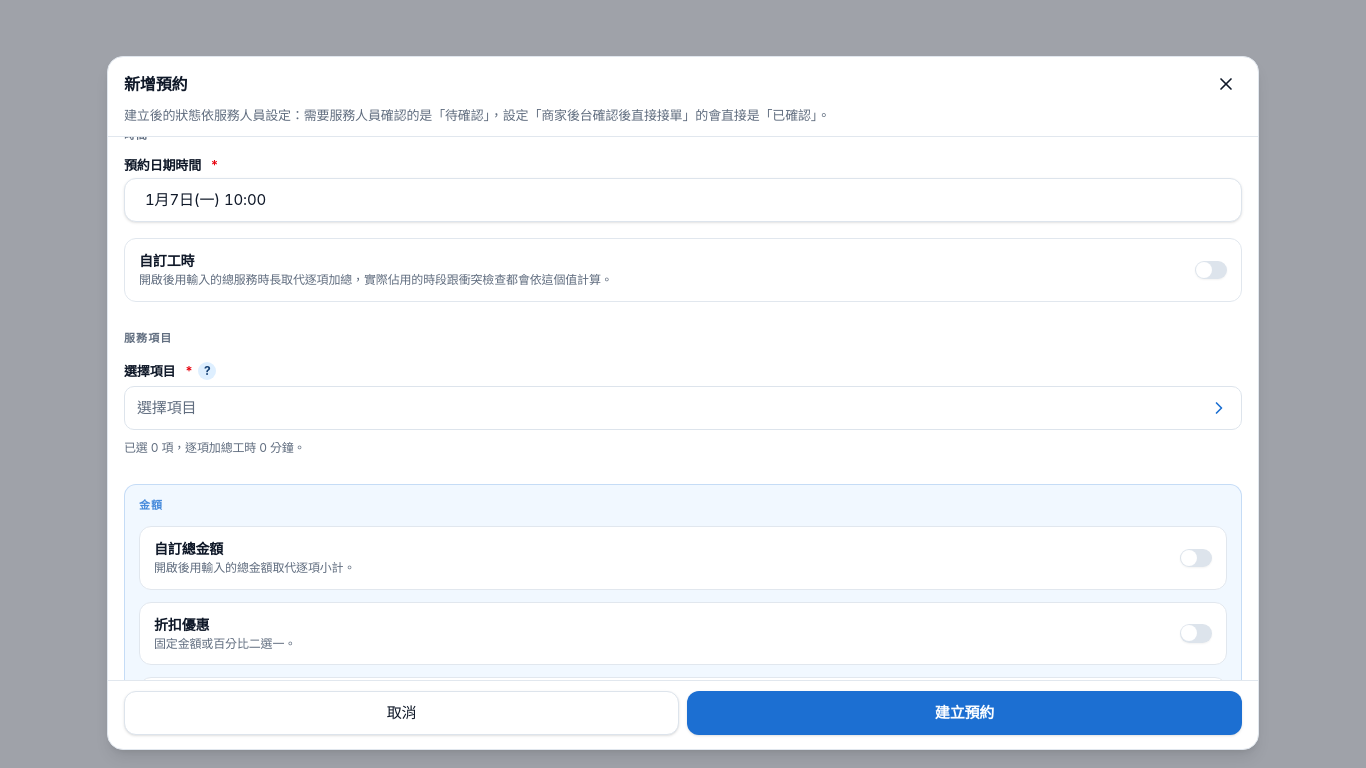
Test: 建單表單 × 選擇項目整頁(#979) › 自訂金額填錯 ⇒ 標紅 + 確認鈕擋住 + 常駐 `!`
The width and height of the screenshot is (1366, 768).
(page scrolled)
Click the button with id "booking-service-items".
click(167, 408)  # box [124,386,1242,430]
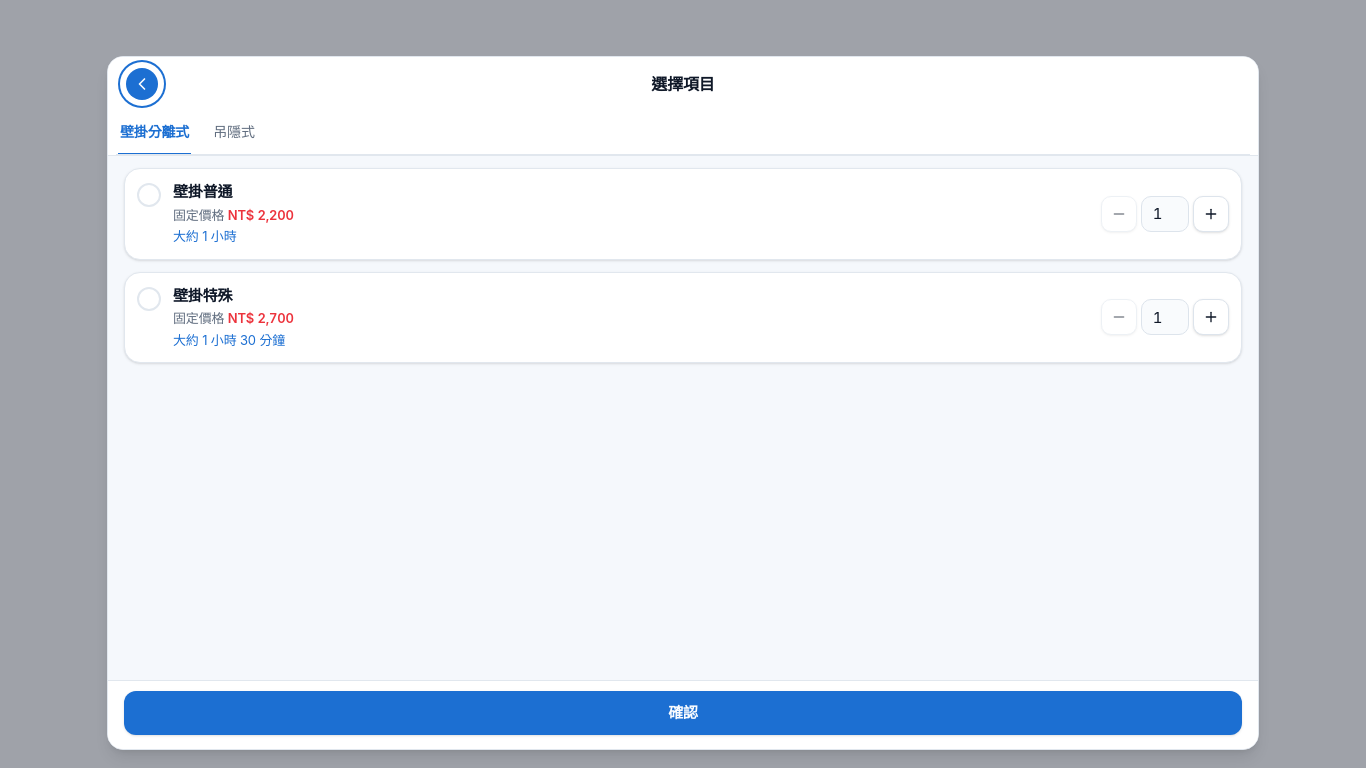
Click the checkbox labelled "壁掛普通 固定價格 NT$ 2,200 大約 1 小時".
click(203, 192)  # box [137,181,1093,246]
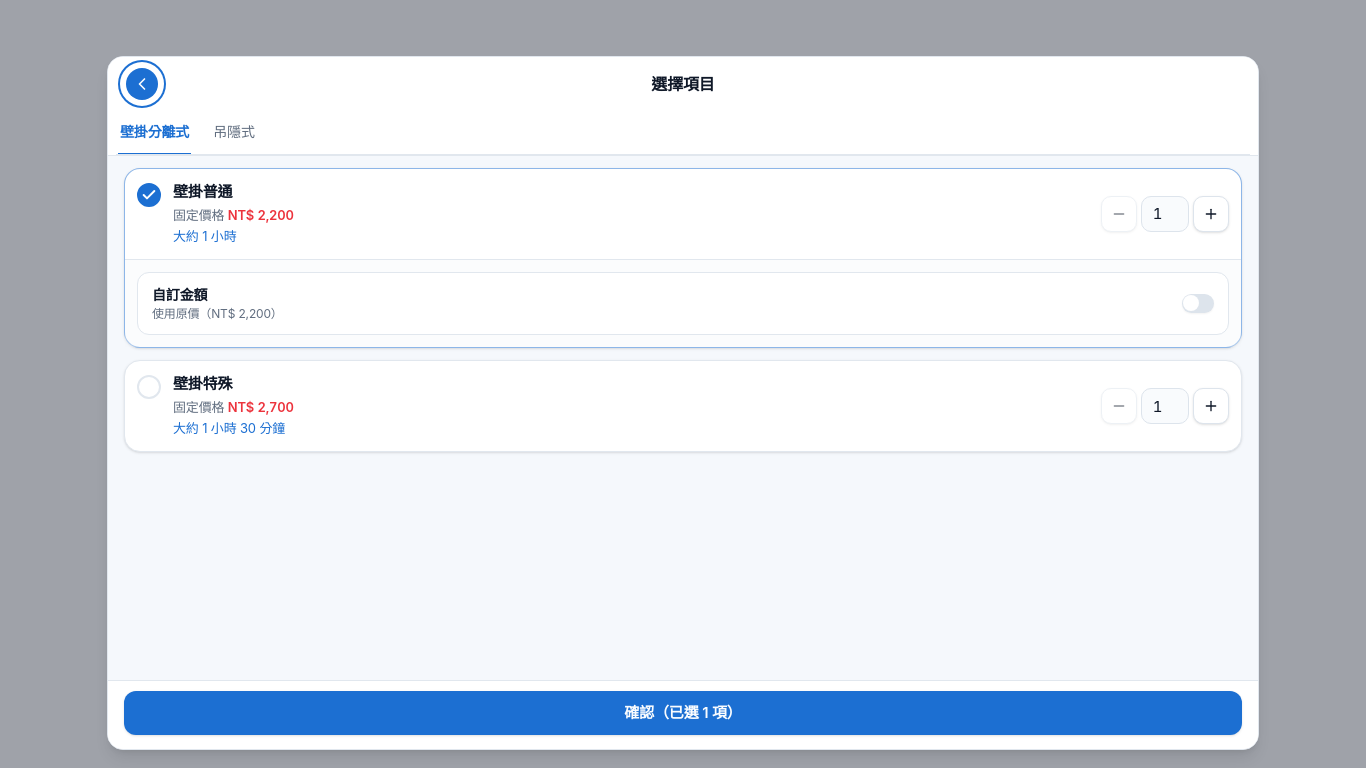
Click the switch named "自訂金額".
click(1198, 303)  # box [1182,294,1214,313]
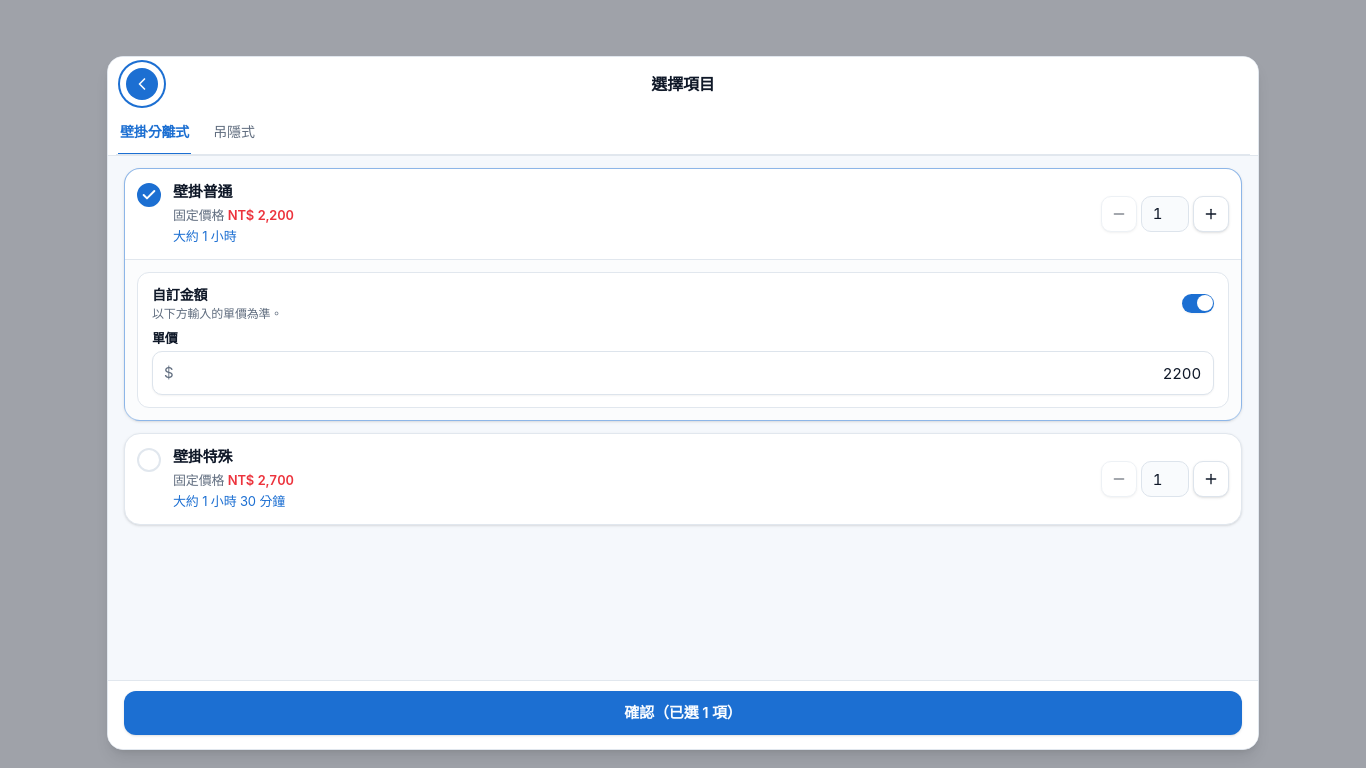
Replace the text in the field labelled "單價" with "abc" at (683, 373), box [152,351,1214,395]
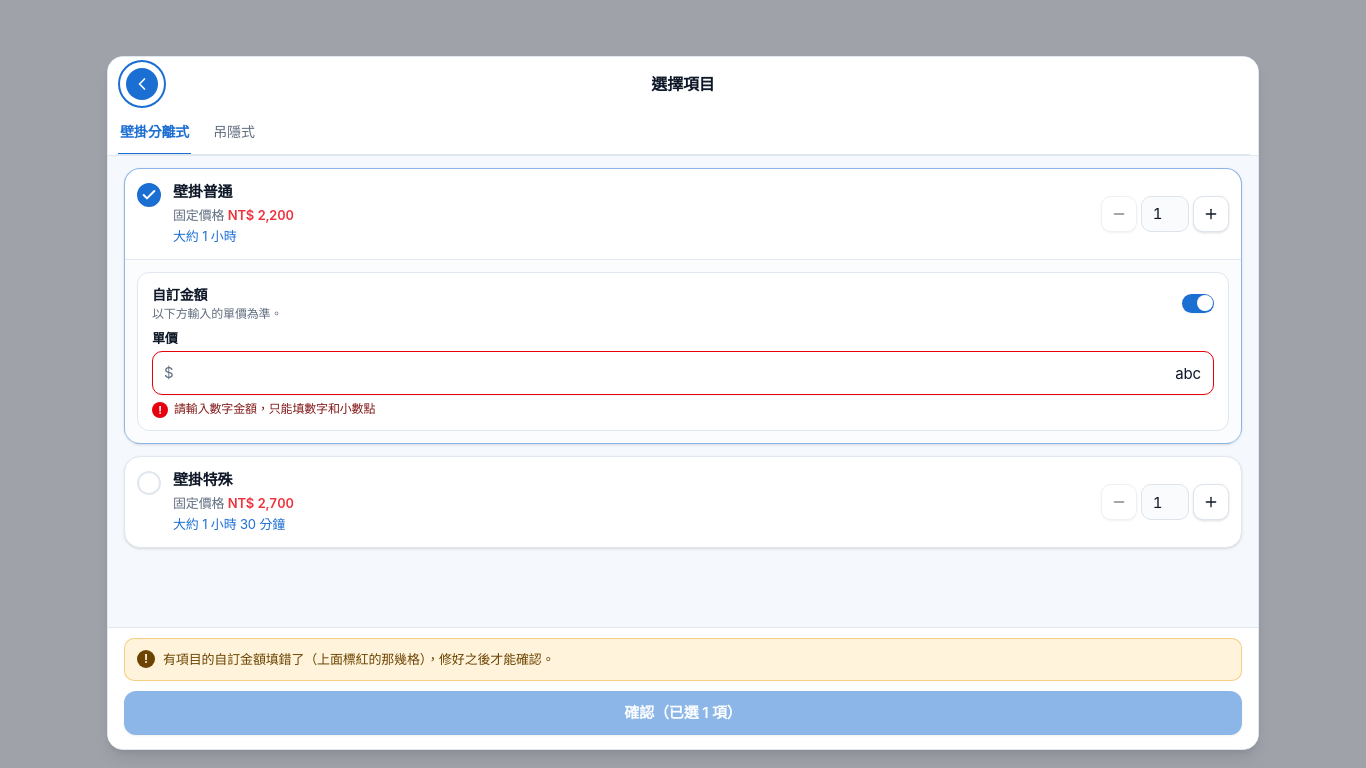
Now the text "自訂金額填錯了" is shown, box [163,651,554,667]
